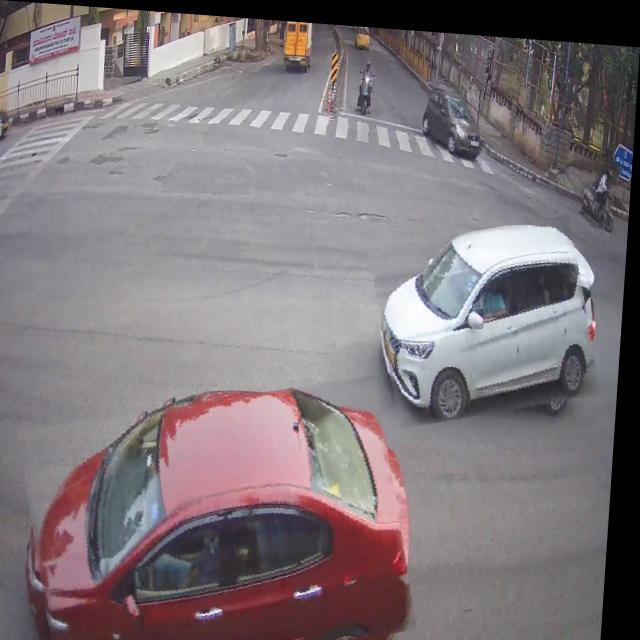Car: (23, 367, 425, 640), (373, 206, 606, 423), (429, 80, 490, 152)
LCV: (278, 16, 319, 60)
Two-wheelers: (583, 146, 622, 220), (360, 60, 376, 107)
